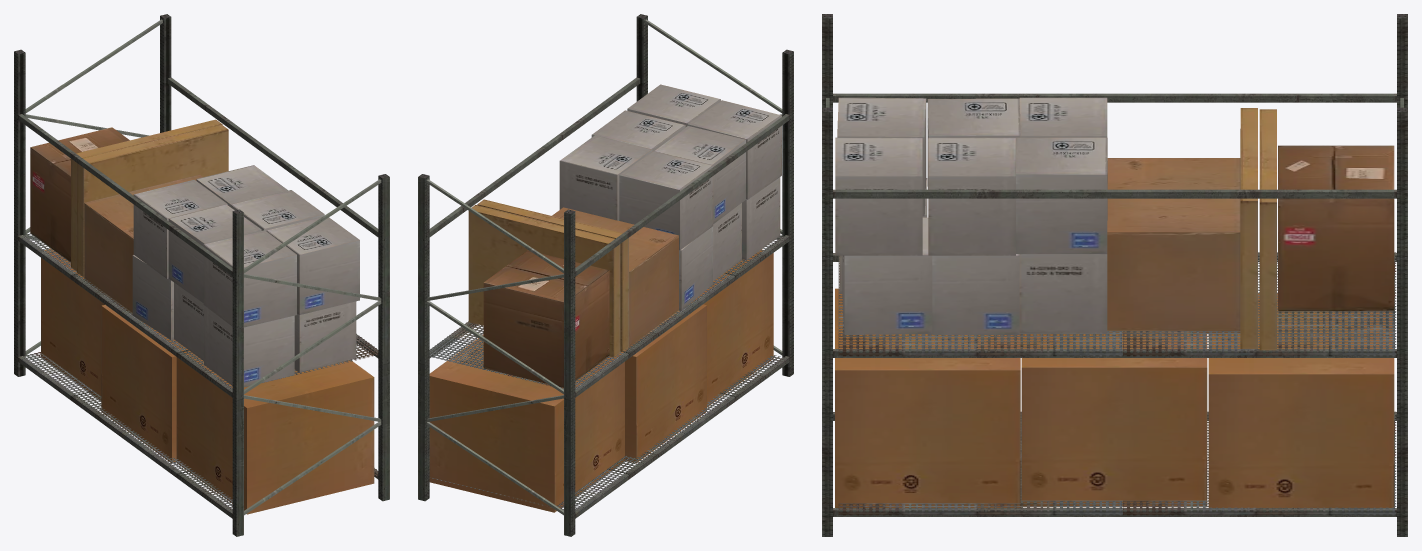
File: warehouse_shelf004.glb
The picture shows the model from 3 angles, left to right: view 1: azimuth 30°, elevation 25°; view 2: azimuth 150°, elevation 25°; view 3: azimuth 270°, elevation 25°; orthographic projection. The views are drawn at different scales.
Visible parts, largest first — view 1: 0_warehouse_shelves; view 2: 0_warehouse_shelves; view 3: 0_warehouse_shelves.
Part boxes in pixels (bbox=[...]): 0_warehouse_shelves: bbox=[14, 14, 389, 536]; 0_warehouse_shelves: bbox=[418, 14, 793, 536]; 0_warehouse_shelves: bbox=[822, 14, 1407, 536].
Bounding box in the file's own units: 1.62 × 3.25 × 4.06.
Materials: 1 (1 with a texture image).
